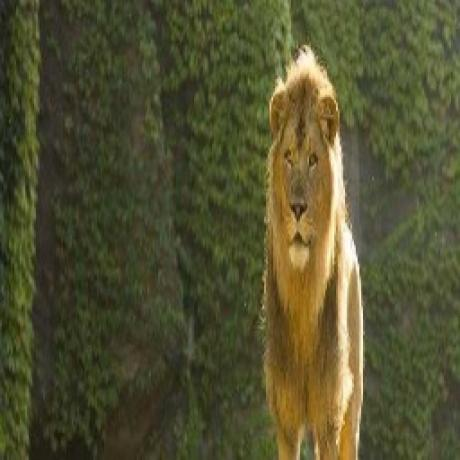Lion: (256, 48, 370, 460)
